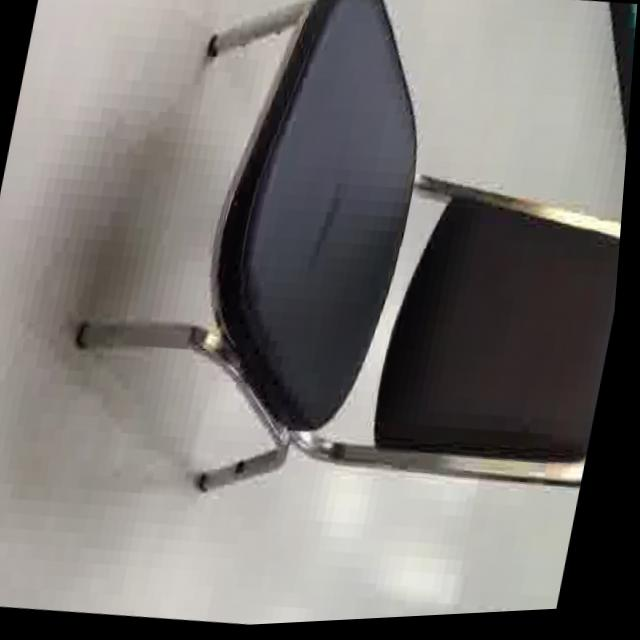chair: (0, 0, 640, 605)
